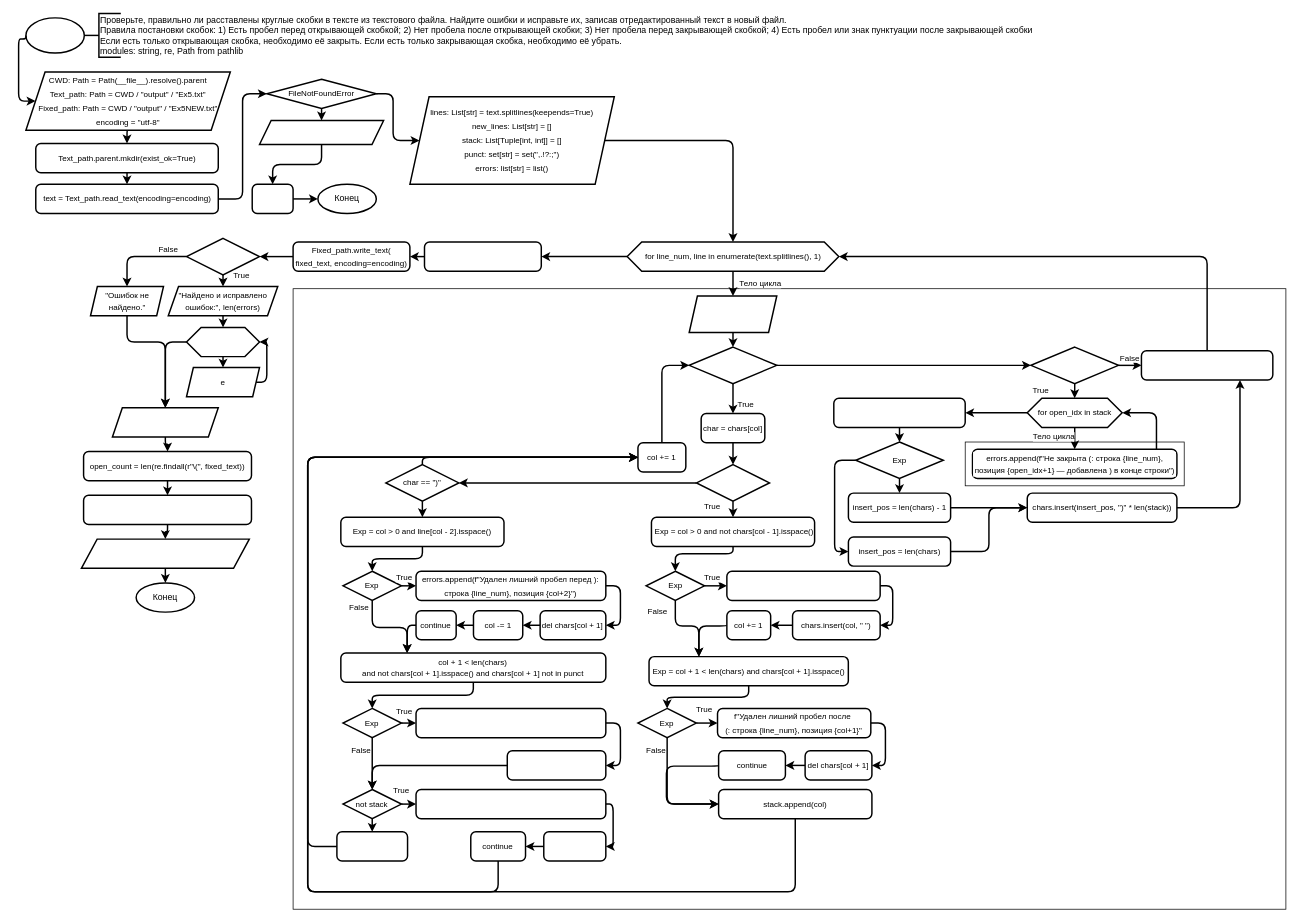
Some shapes in this 1299 by 922 pixel diagram are drawn without their labels. Here are the shapes that lost their labels. From the top down, the centre of each, then its label:
[55,35]: Начало
[321,132]: "Файл Ex5.txt не найден!"
[272,198]: exit(1)
[222,256]: errors
[482,256]: fixed_text = "".join(new_lines)
[732,314]: chars = list(line) col = 0 stack: List[int] = []
[222,341]: for e in errors
[732,365]: col < len(chars)
[1074,365]: stack
[1206,365]: new_lines.append("".join(chars))
[165,422]: "Исправленный текст сохранен в Ex5NEW.txt"
[899,412]: Exp = chars and chars[-1] == "\n"
[732,483]: char == "("
[167,509]: close_count = len(re.findall(r"\)", fixed_text))
[165,553]: f"Открывающих скобок: {open_count}, закрывающих: {close_count}"
[803,585]: errors.append(f"Добавлен пробел перед (: строка {line_num}, позиция {col+1}")
[510,722]: errors.append(f"Добавлен пробел после ): строка {line_num}, позиция {col+2}")
[556,765]: chars.insert(col + 1, " ")
[510,803]: errors.append(f"Лишняя ): строка {line_num}, позиция {col+1} — удалена")
[372,846]: stack.pop()
[574,846]: del chars[col]
